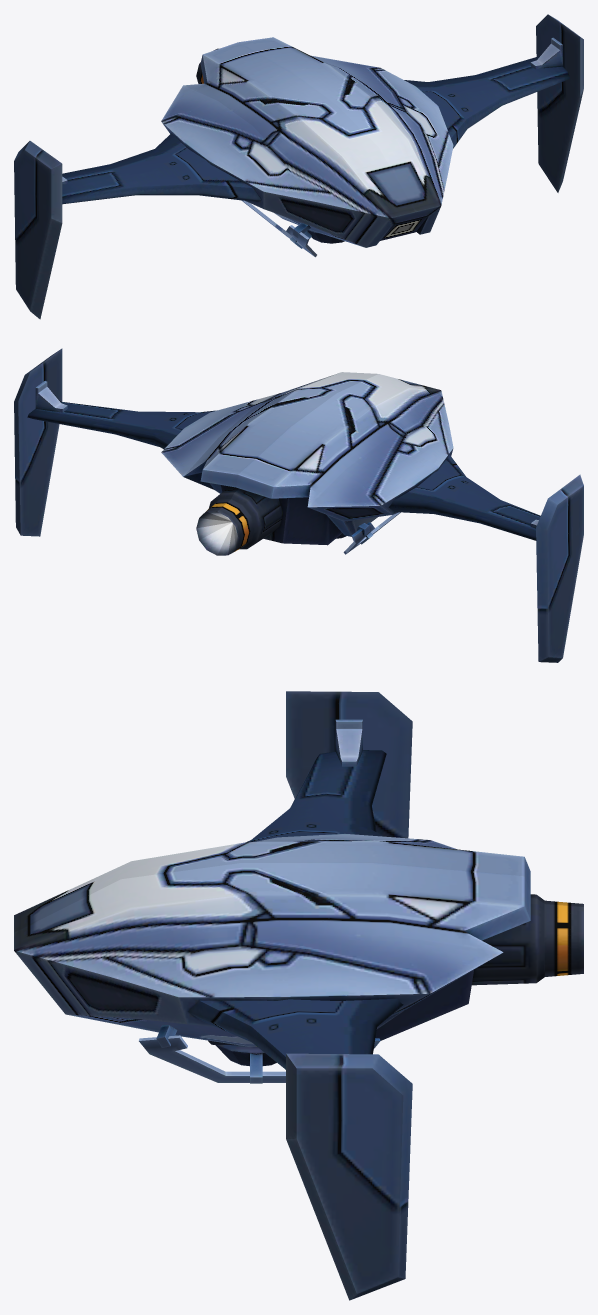
File: OW_Destiny_Detector_53_22_0760.fbx
The picture shows the model from 3 angles, top to bottom: view 1: azimuth 30°, elevation 25°; view 2: azimuth 150°, elevation 25°; view 3: azimuth 270°, elevation 25°; orthographic projection. The views are drawn at different scales.
Parts seen in each view (by area): view 1: Spy_Robot; view 2: Spy_Robot; view 3: Spy_Robot.
Boxes of the visible parts, left/top/right/bottom form: Spy_Robot: left=14, top=14, right=583, bottom=319; Spy_Robot: left=14, top=348, right=583, bottom=662; Spy_Robot: left=14, top=691, right=583, bottom=1300.
Bounding box in the file's own units: 1.33 × 0.4278 × 0.8614.
Materials: 1 (1 with a texture image).
